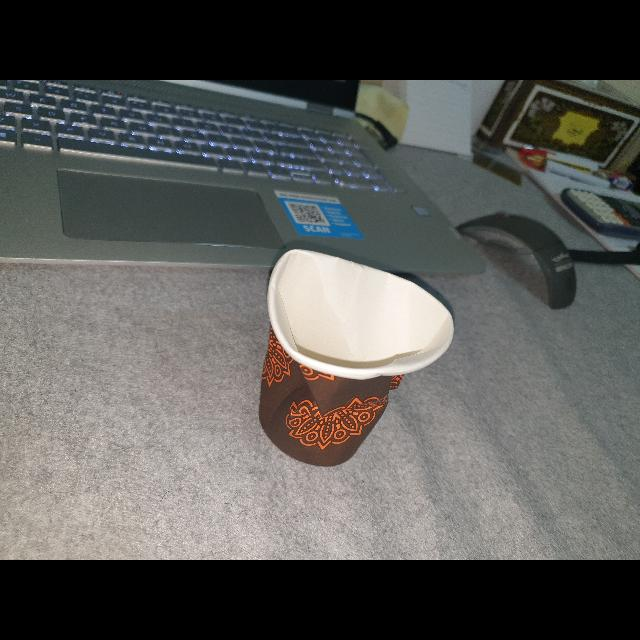trash: (248, 243, 456, 472)
